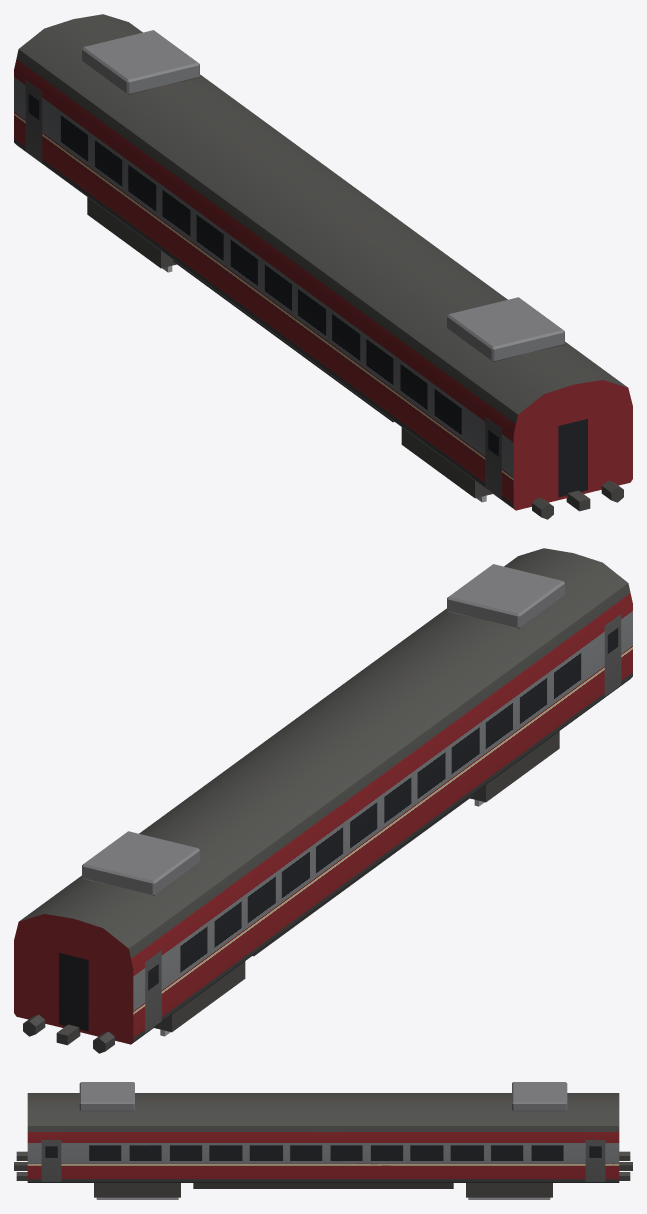
The model's file is lhb_coach_lod1.glb.
3 views of the same model, one above another, from view 1: azimuth 30°, elevation 25°; view 2: azimuth 150°, elevation 25°; view 3: azimuth 270°, elevation 25° (orthographic). The views are drawn at different scales.
Visible parts, largest first — view 1: body; view 2: body; view 3: body.
Part boxes in pixels (x1,y1,x2,y2): body: (14, 14, 632, 519); body: (14, 548, 632, 1053); body: (14, 1082, 632, 1199).
Size of the model in its own units: 3.25 by 4.31 by 24.64.
Materials: 2 (2 with a texture image).
